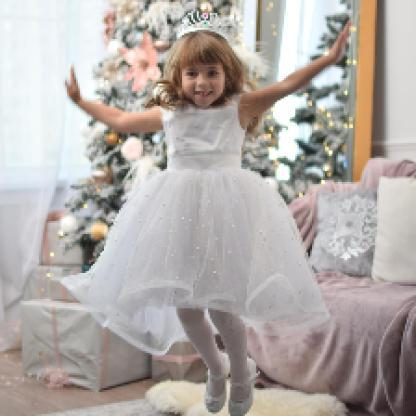child: (60, 16, 356, 416)
